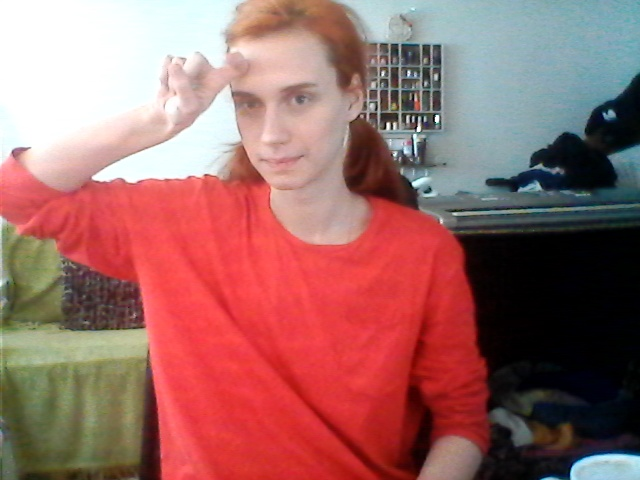chlapec: (150, 45, 264, 117)
